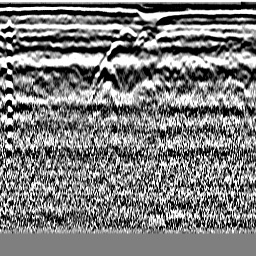cavity: (118, 26, 137, 41)
